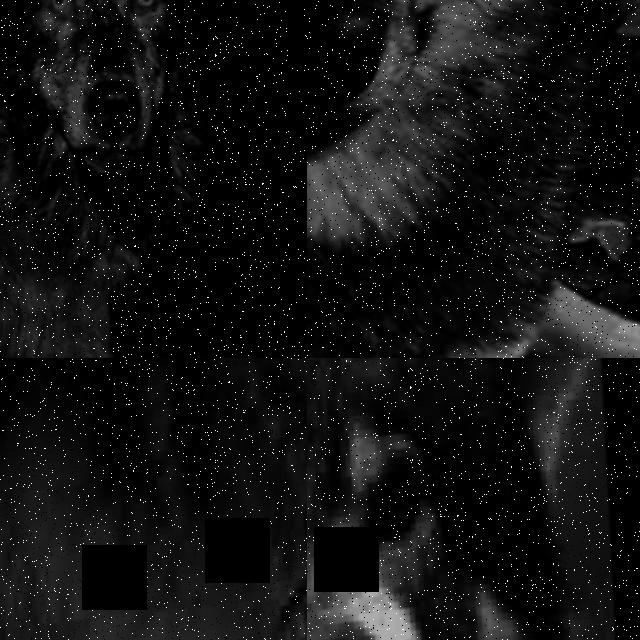wolf: (307, 0, 640, 358), (0, 0, 307, 358), (307, 358, 640, 640), (0, 358, 307, 640)
